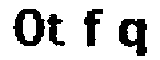0: (12, 5, 46, 52)
f: (81, 6, 105, 51)
q: (117, 15, 149, 59)
t: (47, 9, 66, 48)
